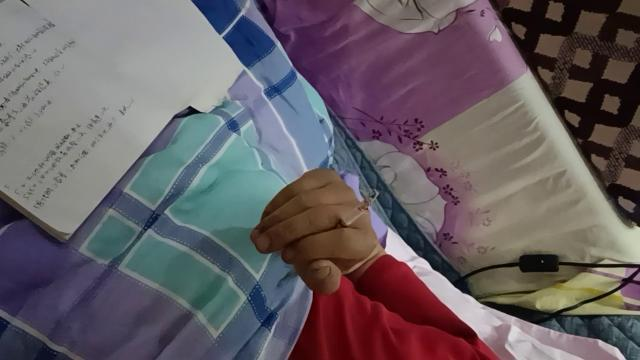Smoking: (333, 190, 379, 234)
